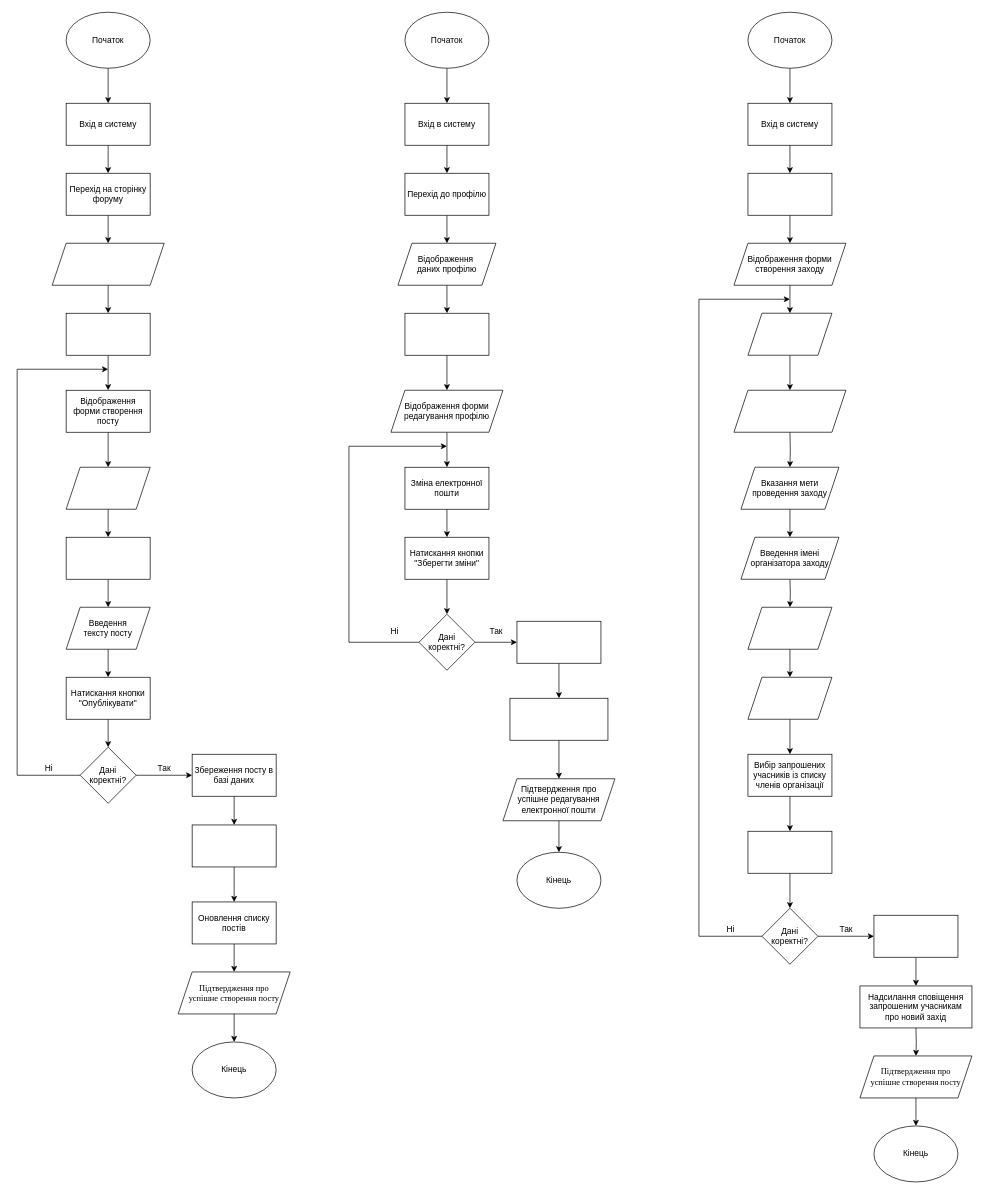
The diagram is 984 pixels wide and 1194 high, and some of its shapes have lost their labels. Each missing label, with the centre of its shape:
Введення заголовку посту: pixel 107 488
Введення назви заходу: pixel 789 334
Введення часу та дати початку і кінця заходу: pixel 789 411
Вибір мітки посту: pixel 107 558
Вказання місця проведення: pixel 789 628
Відображення підтвердження створення: pixel 233 845
Відображення списку тем та постів: pixel 107 264
Додавання детального опису: pixel 789 698
Збереження нового заходу в базі: pixel 915 936
Збереження нової електронної пошти в базі даних: pixel 558 642
Надсилання підтвердження на нову електронну пошту: pixel 558 719
Натискання кнопки "Редагувати профіль": pixel 446 334
Натискання кнопки "Створити новий пост": pixel 107 334
Перехід на сторінку створення заходу: pixel 789 194
Підтвердження створення заходу: pixel 789 852
